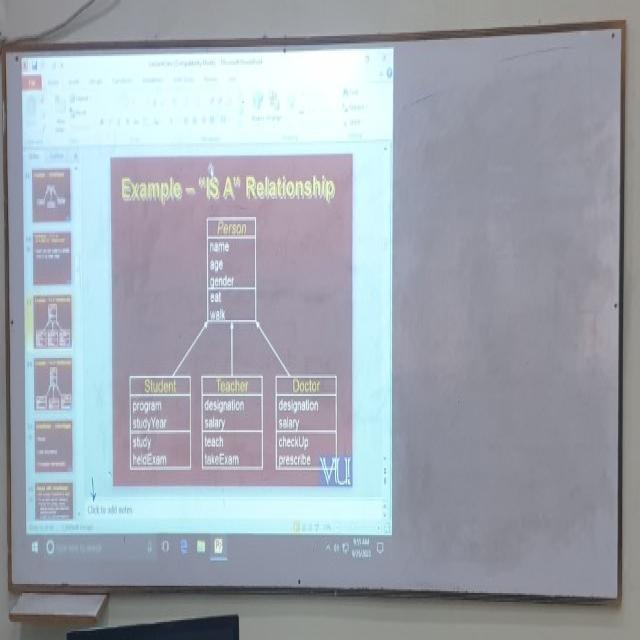Slide: (22, 45, 395, 577)
White-board: (2, 21, 623, 602)
